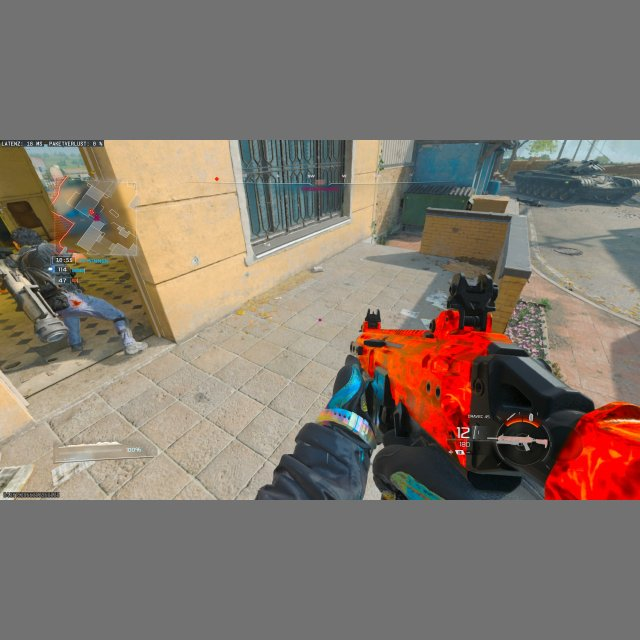player: (0, 224, 148, 361), (466, 197, 474, 210)
